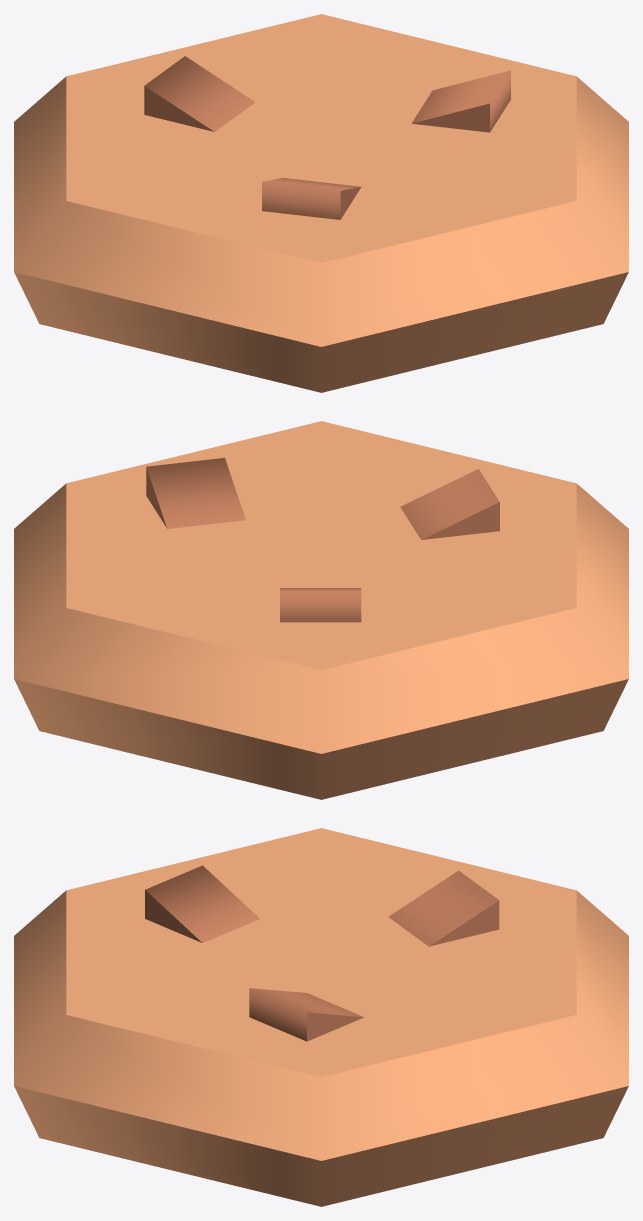
The model's file is Cookie.glb.
The picture shows the model from 3 angles, top to bottom: view 1: azimuth 30°, elevation 25°; view 2: azimuth 150°, elevation 25°; view 3: azimuth 270°, elevation 25°; orthographic projection.
Parts seen in each view (by area): view 1: cookie; view 2: cookie; view 3: cookie.
Part boxes in pixels (x1,y1,x2,y2): cookie: (14, 14, 628, 392); cookie: (14, 421, 628, 799); cookie: (14, 828, 628, 1206).
Bounding box in the file's own units: 0.2197 × 0.0498 × 0.1903.
